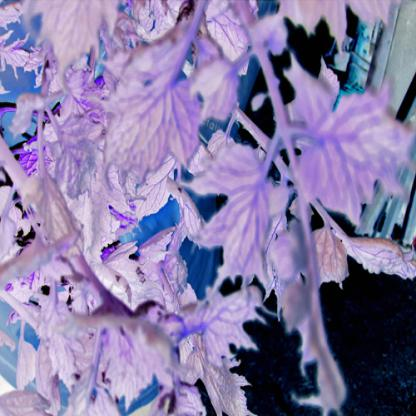tomato leaf mosaic virus: (276, 58, 410, 216), (106, 65, 202, 180), (205, 145, 286, 271), (191, 292, 265, 363), (100, 317, 157, 404), (125, 155, 182, 233), (341, 231, 413, 290)
